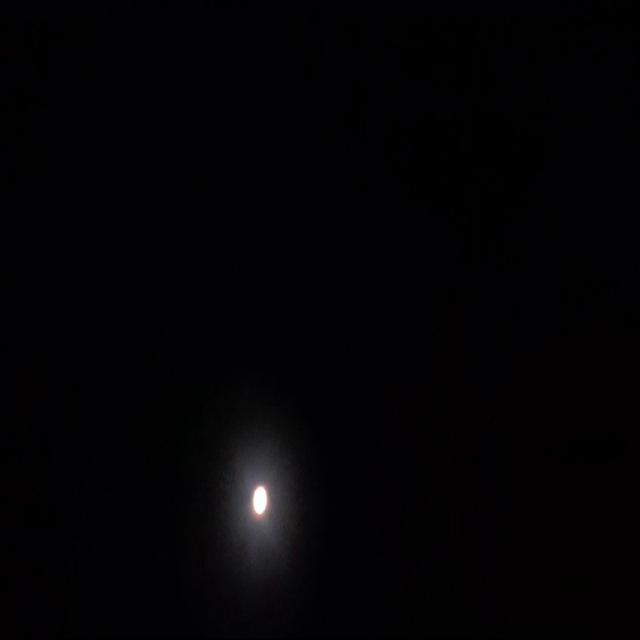moon: (266, 490, 290, 524)
